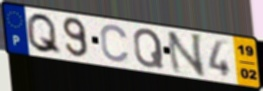4: (206, 38, 234, 79)
9: (61, 16, 90, 60)
C: (99, 23, 131, 64)
N: (165, 31, 207, 78)
Q: (24, 12, 64, 57), (132, 27, 167, 70)
